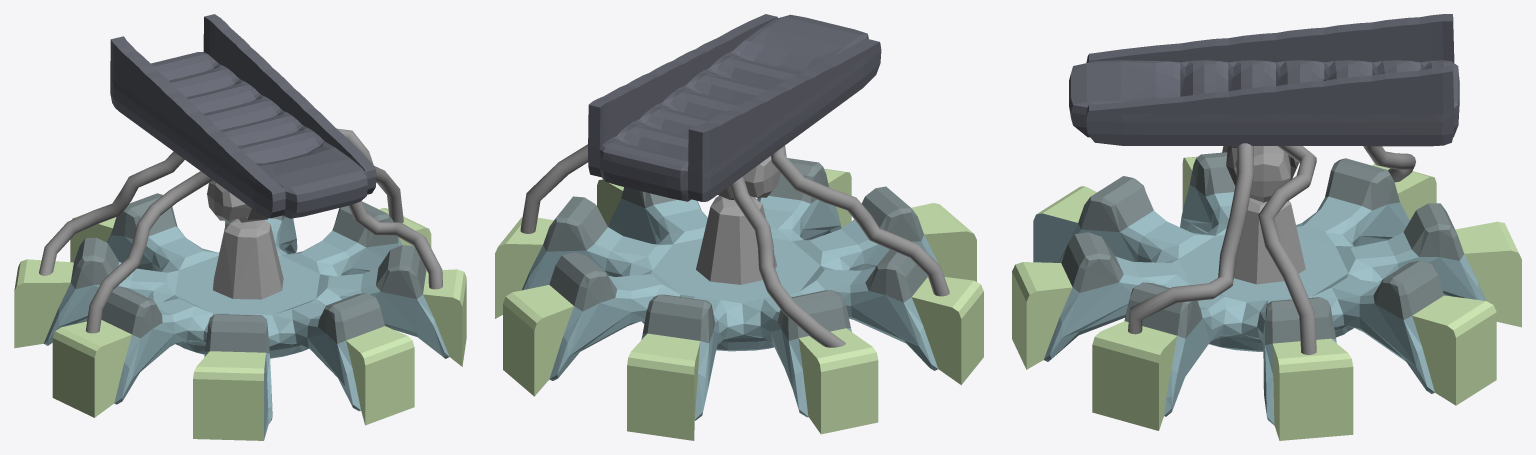
Rendered from rocketlauncher_level3.fbx.
3 views of the same model, side by side, from view 1: azimuth 30°, elevation 25°; view 2: azimuth 150°, elevation 25°; view 3: azimuth 270°, elevation 25° (orthographic). The views are drawn at different scales.
Parts seen in each view (by area): view 1: powersupply.001, settlement_place.002, holder2.002, cable_right, cable_right.001, cable_left.001, cable_left, holder3.002; view 2: powersupply.001, settlement_place.002, holder2.002, cable_right, cable_right.001, cable_left, holder3.002; view 3: powersupply.001, settlement_place.002, cable_left.001, cable_left, holder2.002, holder3.002, cable_right.001, holder.002.
Part boxes in pixels (x1=…): powersupply.001: x1=14, y1=193, x2=466, y2=440; settlement_place.002: x1=110, y1=14, x2=376, y2=218; holder2.002: x1=213, y1=219, x2=283, y2=299; cable_right: x1=86, y1=171, x2=212, y2=333; cable_right.001: x1=39, y1=151, x2=184, y2=275; cable_left.001: x1=348, y1=201, x2=442, y2=289; cable_left: x1=337, y1=128, x2=403, y2=222; holder3.002: x1=207, y1=180, x2=251, y2=220; powersupply.001: x1=495, y1=158, x2=983, y2=440; settlement_place.002: x1=588, y1=14, x2=881, y2=201; holder2.002: x1=696, y1=195, x2=776, y2=284; cable_right: x1=771, y1=145, x2=949, y2=296; cable_right.001: x1=730, y1=176, x2=845, y2=347; cable_left: x1=520, y1=144, x2=588, y2=233; holder3.002: x1=743, y1=156, x2=780, y2=197; powersupply.001: x1=1012, y1=152, x2=1521, y2=440; settlement_place.002: x1=1069, y1=14, x2=1459, y2=146; cable_left.001: x1=1128, y1=143, x2=1253, y2=334; cable_left: x1=1258, y1=146, x2=1316, y2=354; holder2.002: x1=1233, y1=198, x2=1305, y2=284; holder3.002: x1=1236, y1=146, x2=1290, y2=202; cable_right.001: x1=1322, y1=79, x2=1415, y2=182; holder.002: x1=1226, y1=146, x2=1298, y2=185.
Bounding box in the file's own units: 81.22 × 51.34 × 81.18.
